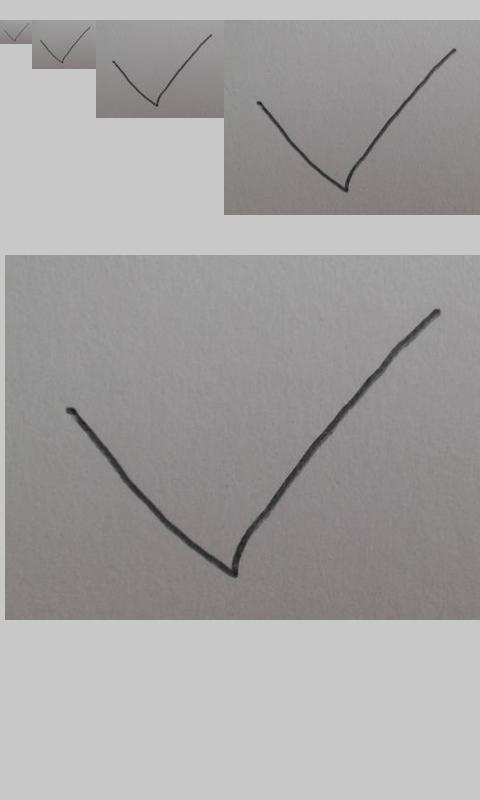check_box: (67, 308, 439, 579), (256, 48, 457, 193), (112, 33, 212, 107), (40, 26, 90, 64), (3, 23, 29, 42)
